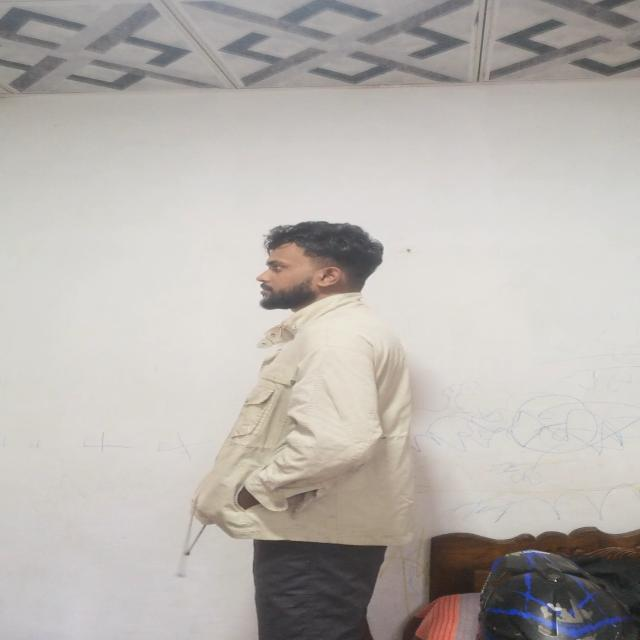Jacket_Wearer: (237, 298, 425, 568)
Person: (197, 218, 468, 640)
